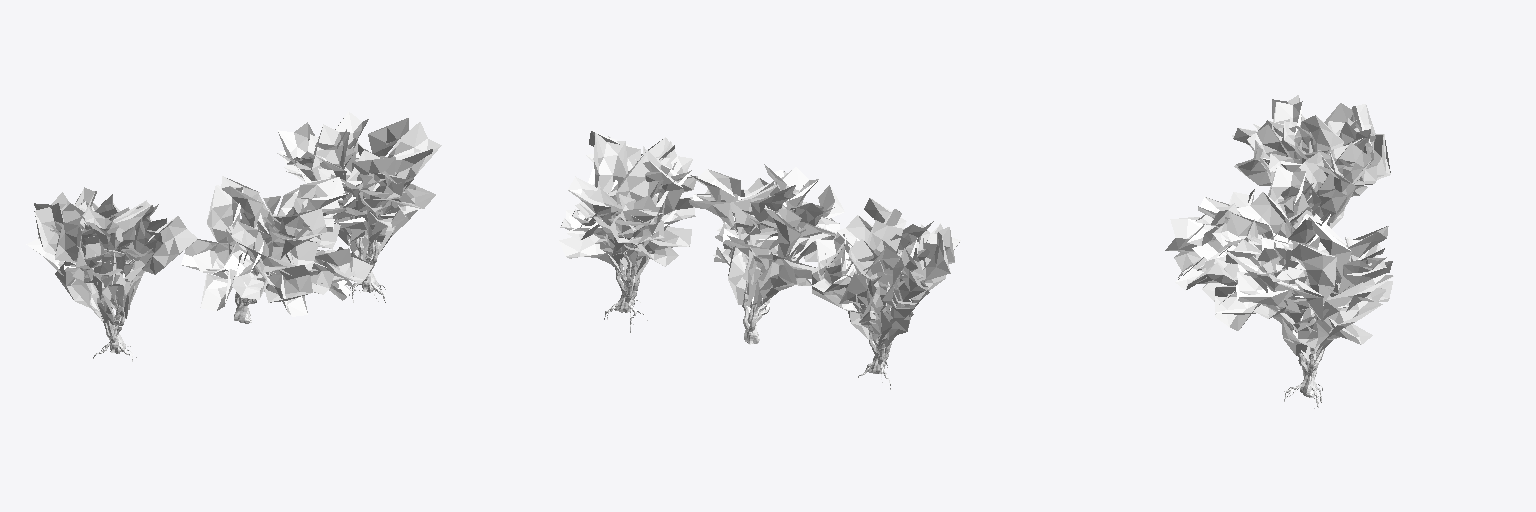
Rendered from Oak.obj.
3 views of the same model, side by side, from view 1: azimuth 30°, elevation 25°; view 2: azimuth 150°, elevation 25°; view 3: azimuth 270°, elevation 25° (orthographic).
Parts seen in each view (by area): view 1: bent_oak_gildergreen2, oak_gildergreen2.002, bare_oak_gildergreen2.001; view 2: bare_oak_gildergreen2.001, bent_oak_gildergreen2, oak_gildergreen2.002; view 3: bare_oak_gildergreen2.001, oak_gildergreen2.002, bent_oak_gildergreen2.
Boxes of the visible parts, <box> form: bent_oak_gildergreen2: <box>181,176,372,323</box>; oak_gildergreen2.002: <box>26,187,197,361</box>; bare_oak_gildergreen2.001: <box>277,111,441,302</box>; bare_oak_gildergreen2.001: <box>559,131,697,332</box>; bent_oak_gildergreen2: <box>689,164,848,344</box>; oak_gildergreen2.002: <box>812,198,960,389</box>; bare_oak_gildergreen2.001: <box>1223,212,1393,408</box>; oak_gildergreen2.002: <box>1232,95,1390,228</box>; bent_oak_gildergreen2: <box>1165,165,1313,330</box>.
Bounding box in the file's own units: 60.94 × 27.78 × 31.56.